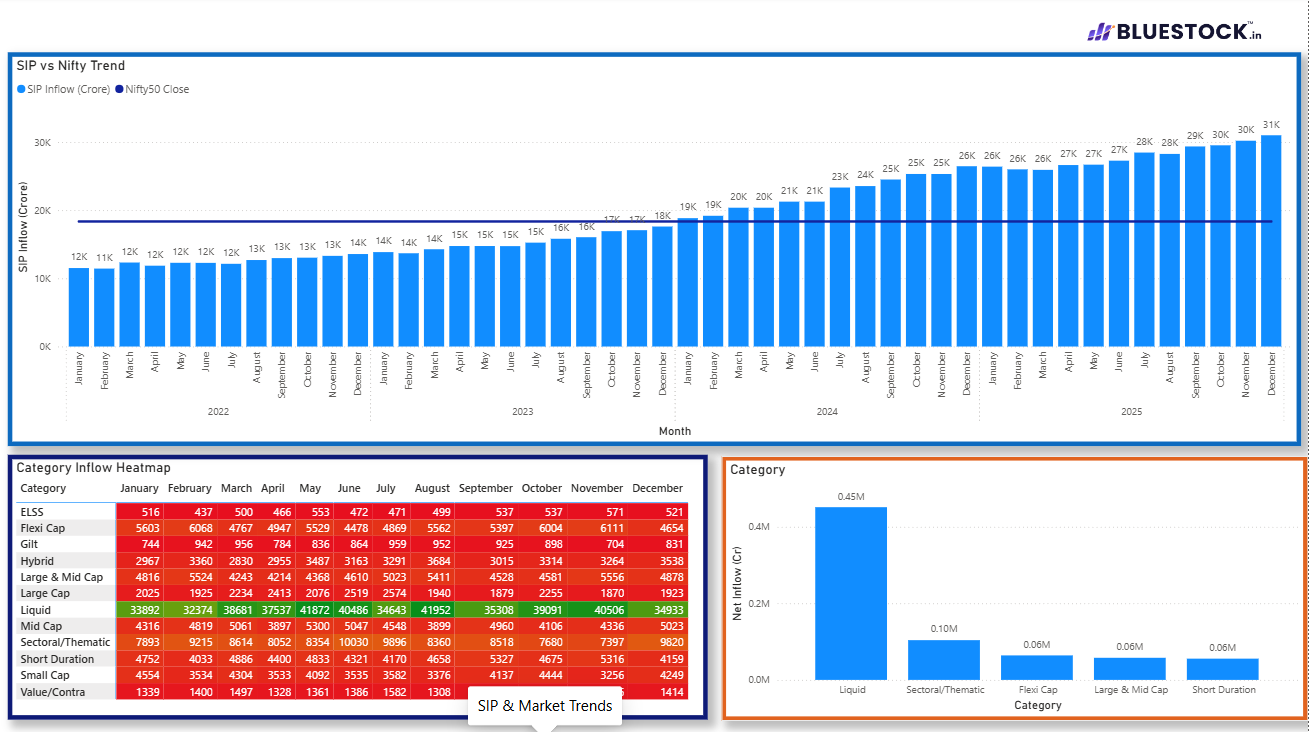

The dashboard page shown, as its layout file describes it:
{"tool":"powerbi","page":{"name":"SIP & Market Trends","canvas":[1600,900],"ordinal":3},"visuals":[{"type":"lineClusteredColumnComboChart","title":"SIP vs Nifty Trend","fields":{"Y":["Sum(monthly_sip_inflows_cleaned.sip_inflow_crore)"],"Category":["monthly_sip_inflows_cleaned.month.Variation.Date Hierarchy.Year","monthly_sip_inflows_cleaned.month.Variation.Date Hierarchy.Month"],"Y2":["Avg(benchmark_indices_cleaned.close_value)"]},"box":[10.3,68.6,1581.5,482],"z":0},{"type":"pivotTable","title":"Category Inflow Heatmap","fields":{"Rows":["category_inflows_cleaned.category"],"Values":["Sum(category_inflows_cleaned.net_inflow_crore)"],"Columns":["category_inflows_cleaned.month.Variation.Date Hierarchy.Month"]},"box":[10.3,560.9,855.9,324.2],"z":1000},{"type":"clusteredColumnChart","title":" Category","fields":{"Category":["category_inflows_cleaned.category"],"Y":["Sum(category_inflows_cleaned.net_inflow_crore)"]},"box":[883.4,562.6,717,324.2],"z":2000},{"type":"image","box":[1289.9,29.2,295,27.4],"z":2001}]}

Visuals, with their boxes in screenshot pixels (x1, y1, x2, y2), scaled from the page's 1600x900 canvas onto the 1309x732 screenshot:
"SIP vs Nifty Trend" lineClusteredColumnComboChart: l=8, t=56, r=1302, b=448
"Category Inflow Heatmap" pivotTable: l=8, t=456, r=709, b=720
" Category" clusteredColumnChart: l=723, t=458, r=1308, b=721
image: l=1055, t=24, r=1297, b=46
